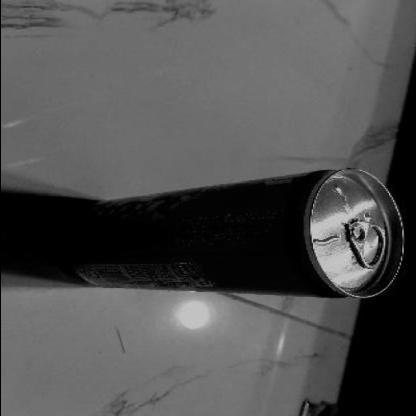alumunium_can: (59, 168, 408, 300)
